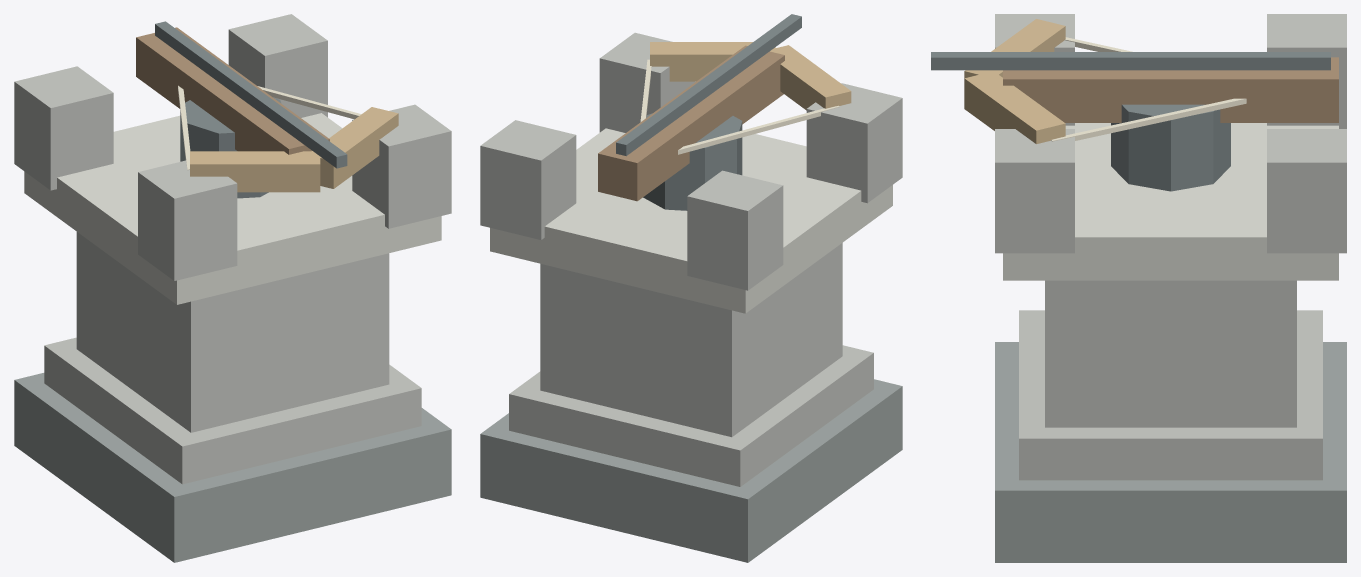
The model's file is human_crossbow_t1.glb.
3 views of the same model, side by side, from view 1: azimuth 30°, elevation 25°; view 2: azimuth 150°, elevation 25°; view 3: azimuth 270°, elevation 25° (orthographic). The views are drawn at different scales.
Parts seen in each view (by area): view 1: human_crossbow_t1_MAT_stone, human_crossbow_t1_MAT_dark, human_crossbow_t1_MAT_light, human_crossbow_t1_MAT_edge, human_crossbow_t1_MAT_wood, human_crossbow_t1_MAT_iron, human_crossbow_t1_MAT_white; view 2: human_crossbow_t1_MAT_stone, human_crossbow_t1_MAT_dark, human_crossbow_t1_MAT_light, human_crossbow_t1_MAT_wood, human_crossbow_t1_MAT_iron, human_crossbow_t1_MAT_edge, human_crossbow_t1_MAT_white; view 3: human_crossbow_t1_MAT_stone, human_crossbow_t1_MAT_dark, human_crossbow_t1_MAT_light, human_crossbow_t1_MAT_iron, human_crossbow_t1_MAT_wood, human_crossbow_t1_MAT_edge, human_crossbow_t1_MAT_white.
Part boxes in pixels (box(x1,y1,x2,y2)): human_crossbow_t1_MAT_stone: box(14, 14, 451, 484); human_crossbow_t1_MAT_dark: box(14, 373, 451, 562); human_crossbow_t1_MAT_light: box(24, 113, 441, 304); human_crossbow_t1_MAT_edge: box(190, 107, 398, 192); human_crossbow_t1_MAT_wood: box(136, 27, 329, 154); human_crossbow_t1_MAT_iron: box(155, 21, 347, 198); human_crossbow_t1_MAT_white: box(178, 85, 361, 170); human_crossbow_t1_MAT_stone: box(480, 32, 902, 486); human_crossbow_t1_MAT_dark: box(480, 379, 902, 562); human_crossbow_t1_MAT_light: box(490, 128, 892, 313); human_crossbow_t1_MAT_wood: box(598, 45, 784, 201); human_crossbow_t1_MAT_iron: box(616, 14, 801, 210); human_crossbow_t1_MAT_edge: box(650, 42, 851, 110); human_crossbow_t1_MAT_white: box(640, 59, 839, 154); human_crossbow_t1_MAT_stone: box(995, 14, 1346, 480); human_crossbow_t1_MAT_dark: box(995, 342, 1346, 562); human_crossbow_t1_MAT_light: box(1003, 123, 1338, 280); human_crossbow_t1_MAT_iron: box(931, 52, 1330, 191); human_crossbow_t1_MAT_wood: box(1003, 57, 1338, 122); human_crossbow_t1_MAT_edge: box(964, 19, 1065, 144); human_crossbow_t1_MAT_white: box(1051, 37, 1246, 141).
Size of the model in its own units: 0.88 by 1.2 by 1.04.
